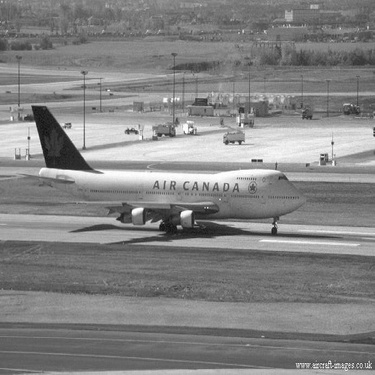airplane: (13, 83, 311, 246)
